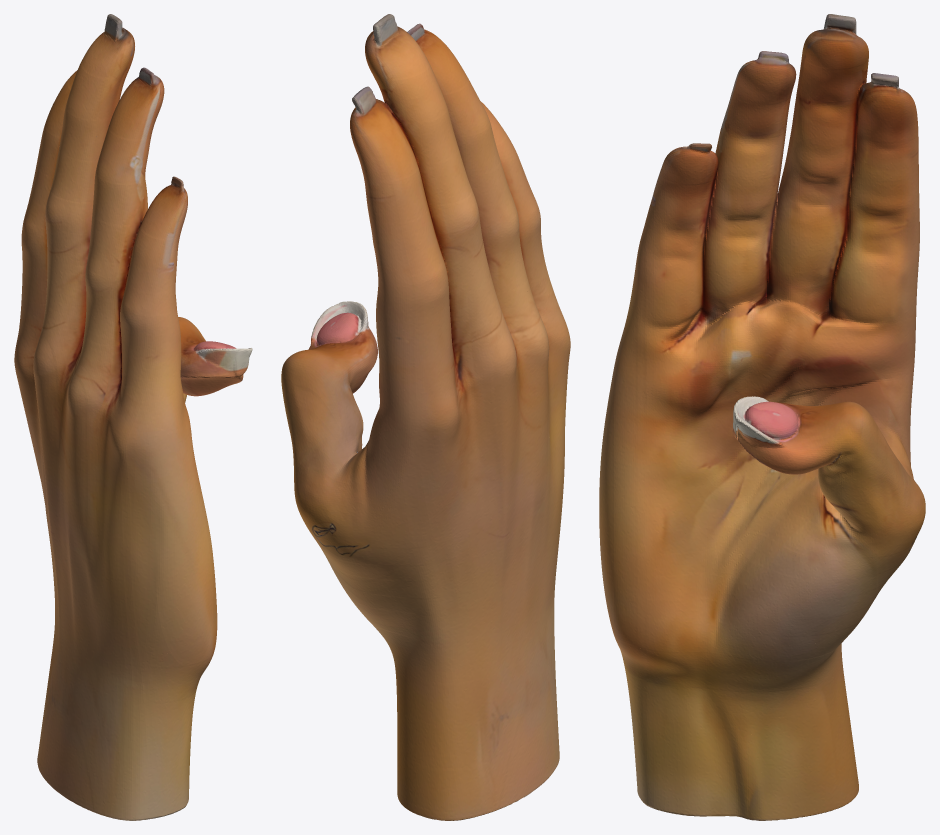
The model's file is letter_B.glb.
3 renders of one model, left to right at view 1: azimuth 30°, elevation 25°; view 2: azimuth 150°, elevation 25°; view 3: azimuth 270°, elevation 25°, orthographic. The views are drawn at different scales.
Parts seen in each view (by area): view 1: tripo_node_5440fd83-9b6b-4e50-8bd9-0258f29ee9a0; view 2: tripo_node_5440fd83-9b6b-4e50-8bd9-0258f29ee9a0; view 3: tripo_node_5440fd83-9b6b-4e50-8bd9-0258f29ee9a0.
Boxes of the visible parts, x1,y1,x2,y2 form: tripo_node_5440fd83-9b6b-4e50-8bd9-0258f29ee9a0: [14, 14, 252, 820]; tripo_node_5440fd83-9b6b-4e50-8bd9-0258f29ee9a0: [281, 14, 570, 820]; tripo_node_5440fd83-9b6b-4e50-8bd9-0258f29ee9a0: [599, 14, 925, 820].
Size of the model in its own units: 0.285 by 1 by 0.3693.
1 material, 1 textured.
